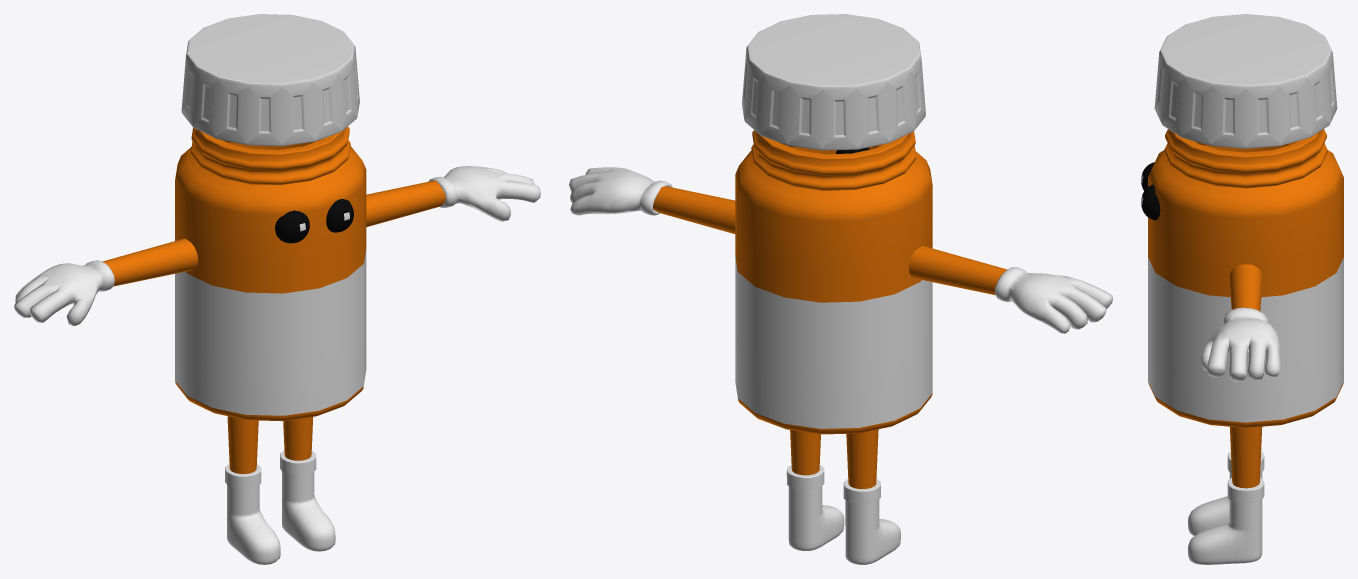
The model's file is Tower_1.fbx.
3 views of the same model, side by side, from view 1: azimuth 30°, elevation 25°; view 2: azimuth 150°, elevation 25°; view 3: azimuth 270°, elevation 25° (orthographic). The views are drawn at different scales.
Parts seen in each view (by area): view 1: Tower_Body3; view 2: Tower_Body3; view 3: Tower_Body3.
Part boxes in pixels (left/top/right/bottom): Tower_Body3: left=14, top=14, right=540, bottom=564; Tower_Body3: left=569, top=14, right=1112, bottom=564; Tower_Body3: left=1141, top=14, right=1343, bottom=564.
Size of the model in its own units: 53.49 by 48.34 by 17.84.
